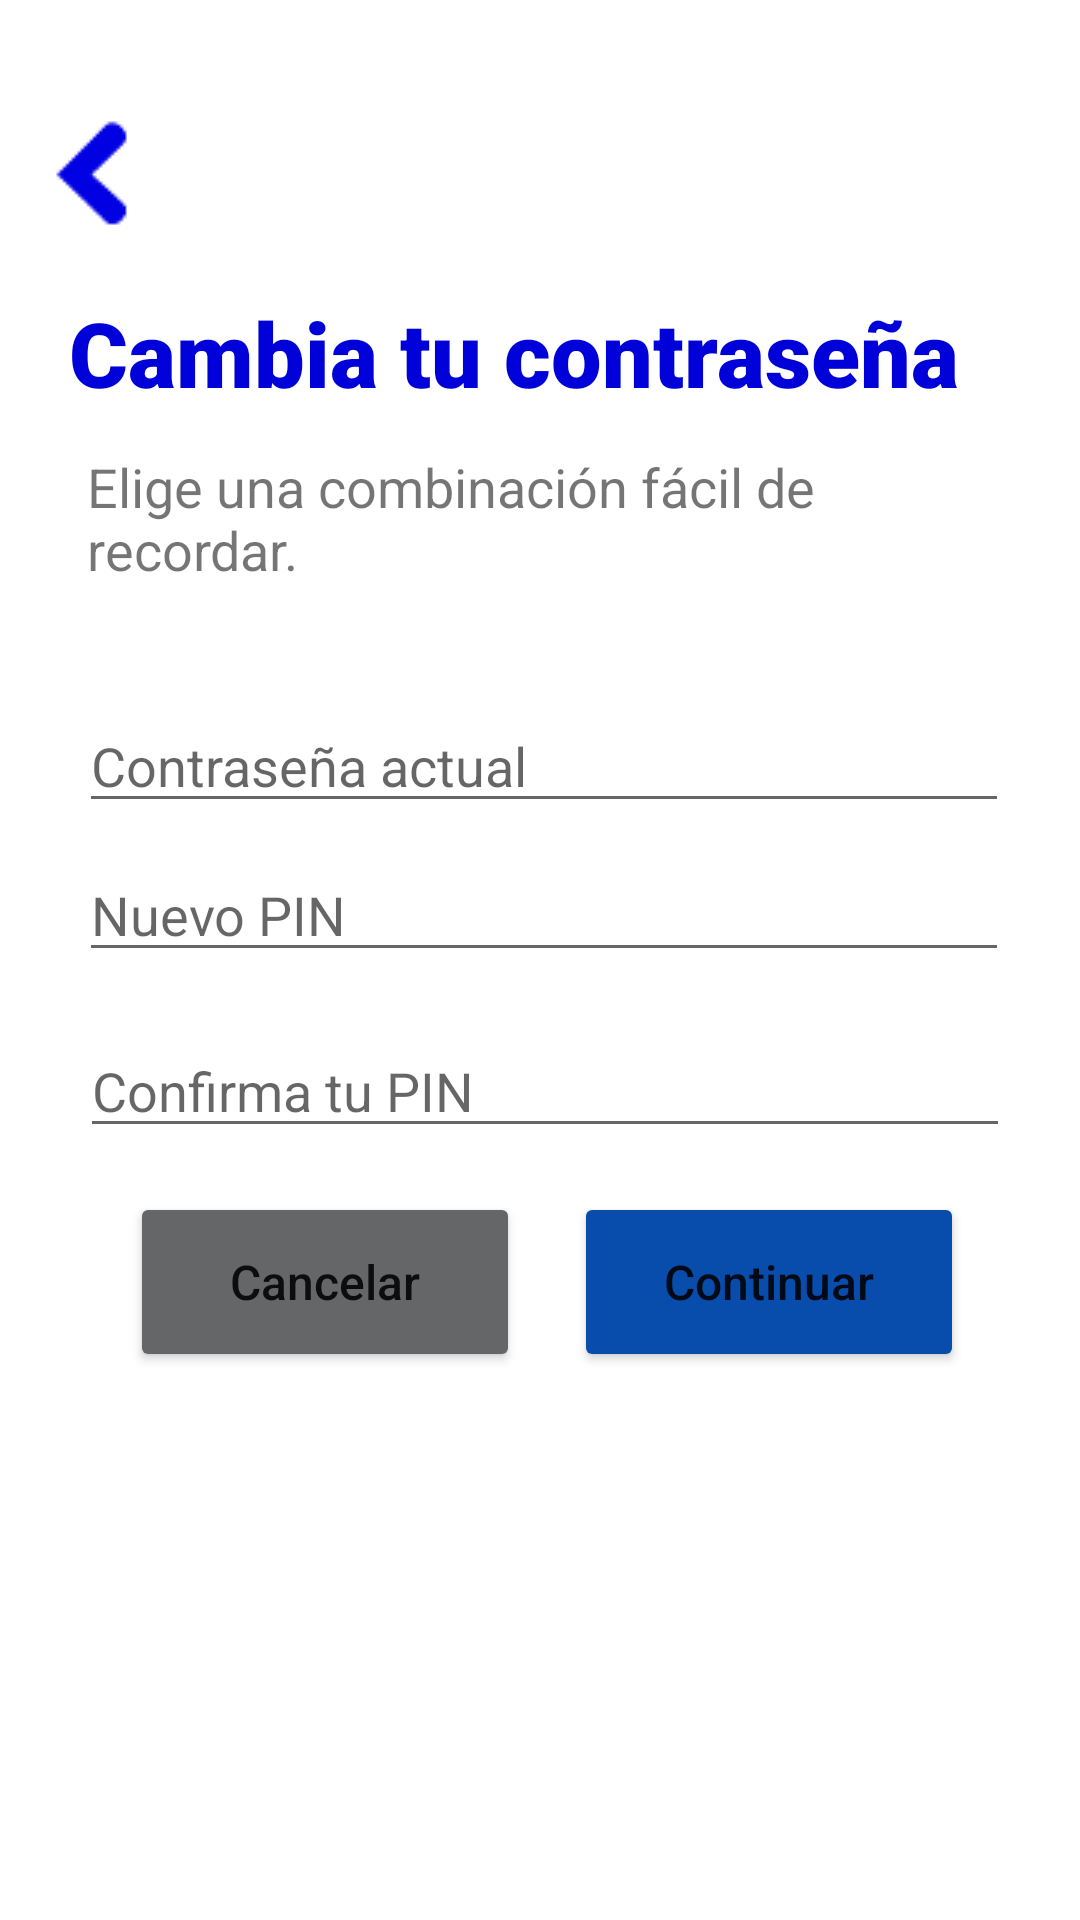

Icons on this 1080×1920 Android screen, each with the point to tap as (x,y):
back: (91,173)
